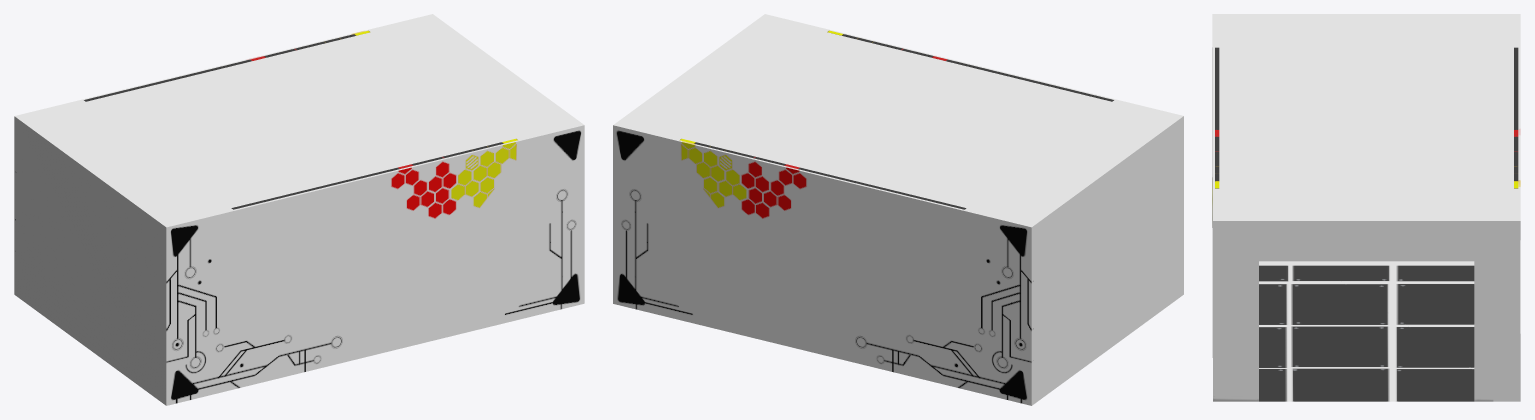
The model's file is room2.fbx.
The picture shows the model from 3 angles, left to right: view 1: azimuth 30°, elevation 25°; view 2: azimuth 150°, elevation 25°; view 3: azimuth 270°, elevation 25°; orthographic projection.
Visible parts, largest first — view 1: room; view 2: room; view 3: room.
Part boxes in pixels (<box>): room: <box>14,14,584,405</box>; room: <box>613,14,1183,405</box>; room: <box>1212,14,1520,401</box>.
Size of the model in its own units: 167 by 66.66 by 103.
